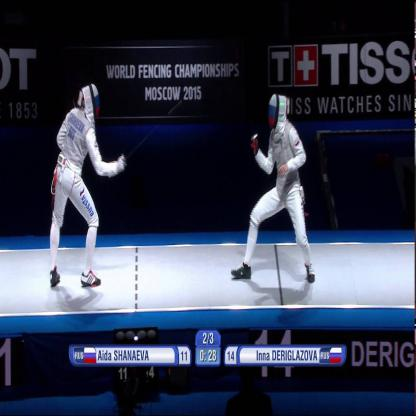fencer: (46, 76, 144, 302), (232, 88, 331, 292)
